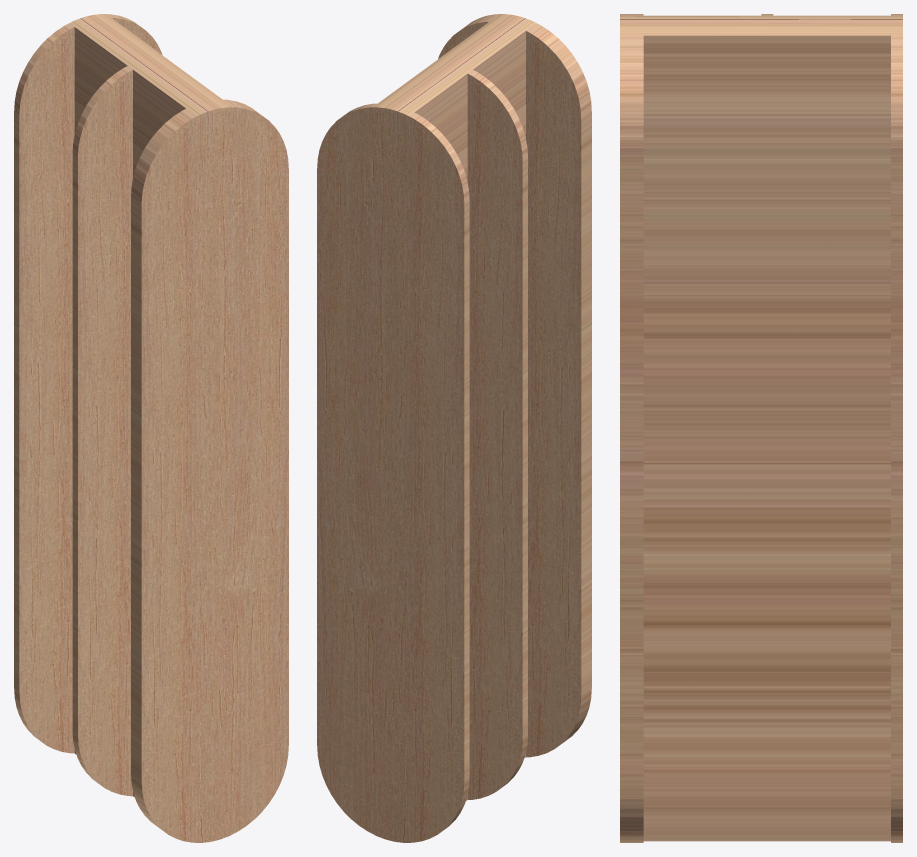
The model's file is bartresen.dae.
3 renders of one model, left to right at view 1: azimuth 30°, elevation 25°; view 2: azimuth 150°, elevation 25°; view 3: azimuth 270°, elevation 25°, orthographic. The views are drawn at different scales.
Parts seen in each view (by area): view 1: node; view 2: node; view 3: node.
Part boxes in pixels (left/top/right/bottom): node: left=14, top=14, right=288, bottom=842; node: left=317, top=14, right=591, bottom=842; node: left=620, top=14, right=902, bottom=842.
Bounding box in the file's own units: 800 × 3798 × 1200.
Materials: 1 (1 with a texture image).
